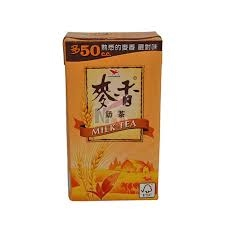milk tea: (61, 32, 162, 201)
